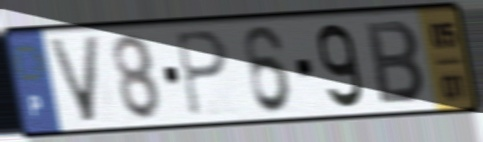6: (240, 22, 292, 117)
8: (109, 30, 163, 124)
9: (314, 21, 365, 110)
B: (363, 19, 430, 108)
P: (172, 28, 232, 120)
V: (44, 33, 104, 126)
